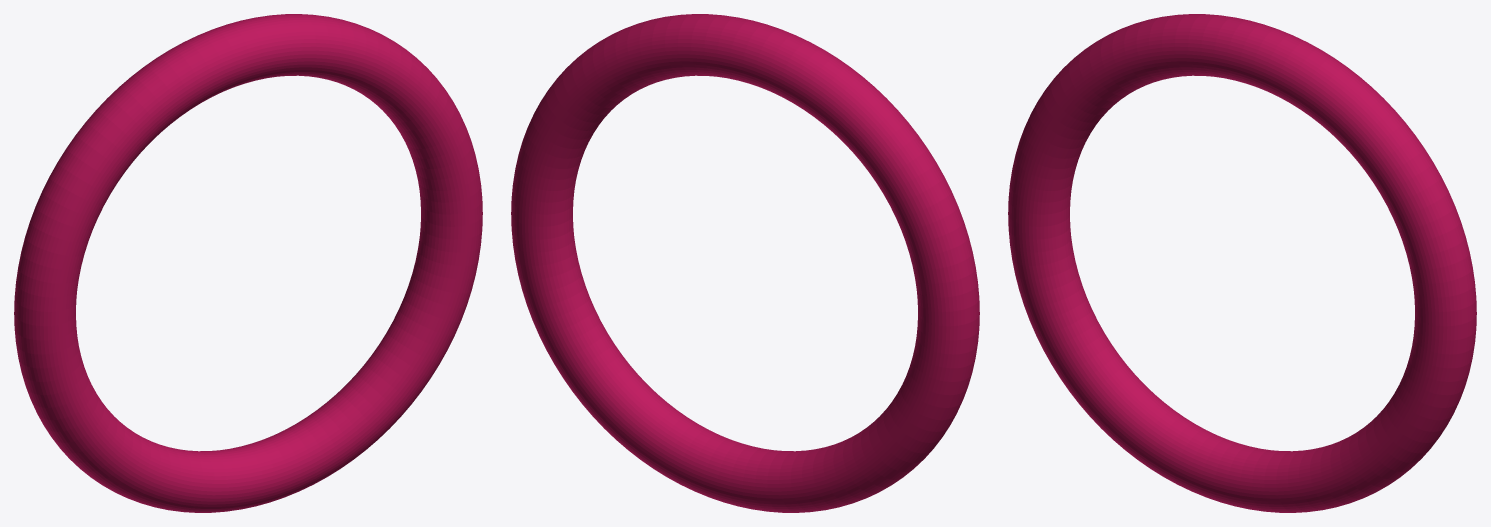
The picture shows the model from 3 angles, left to right: view 1: azimuth 30°, elevation 25°; view 2: azimuth 150°, elevation 25°; view 3: azimuth 330°, elevation 25°; orthographic projection.
Parts seen in each view (by area): view 1: world; view 2: world; view 3: world.
Boxes of the visible parts, x1,y1,x2,y2 form: world: [14, 14, 482, 512]; world: [511, 14, 979, 512]; world: [1008, 14, 1476, 512].
Bounding box in the file's own units: 28.67 × 28.67 × 3.33.
